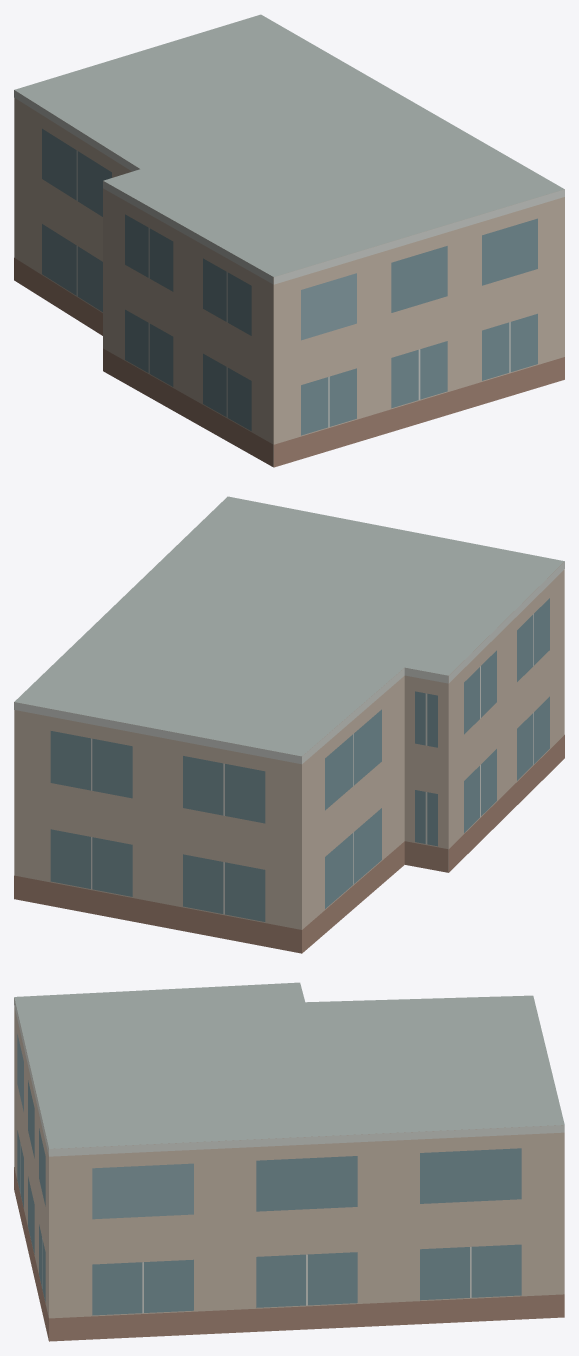
The model's file is survey-upis-32525058.glb.
3 views of the same model, one above another, from view 1: azimuth 30°, elevation 25°; view 2: azimuth 150°, elevation 25°; view 3: azimuth 270°, elevation 25° (orthographic). The views are drawn at different scales.
Visible parts, largest first — view 1: survey-upis-32525058.tmp; view 2: survey-upis-32525058.tmp; view 3: survey-upis-32525058.tmp.
Part boxes in pixels (box(x1,y1,x2,y2)): survey-upis-32525058.tmp: box(14, 14, 564, 467); survey-upis-32525058.tmp: box(14, 496, 564, 953); survey-upis-32525058.tmp: box(14, 982, 564, 1341).
Bounding box in the file's own units: 11.33 × 6.1 × 15.83.
